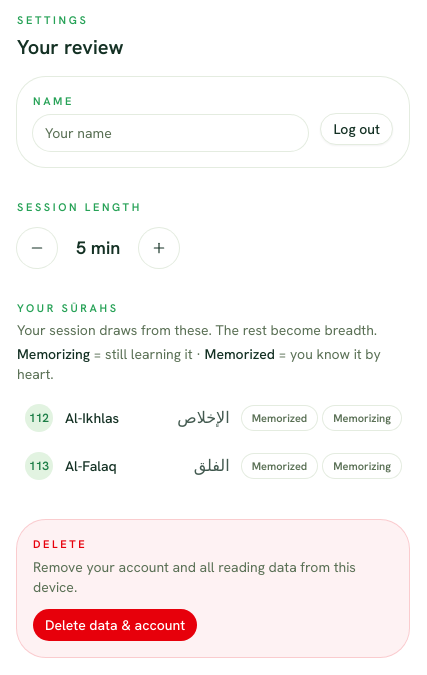
SettingsView › disables the memorizing toggle for a sūrah once it is memorized
Click the button with aria-label "Memorized: Al-Ikhlas" at (279, 418), box [242,406,317,430]
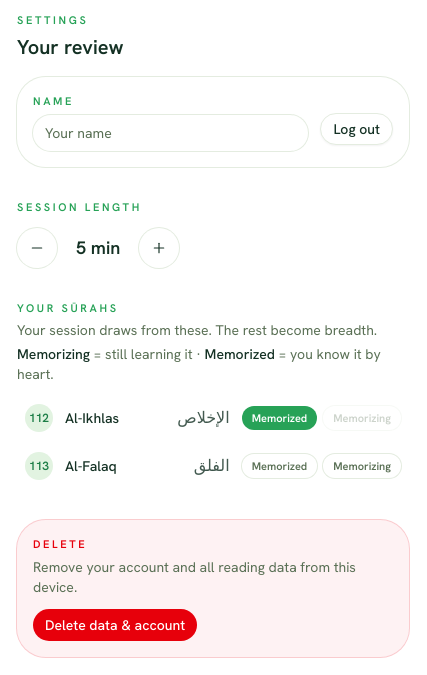
Now the button with aria-label "Memorizing: Al-Ikhlas" is disabled, box [323,406,401,430]
